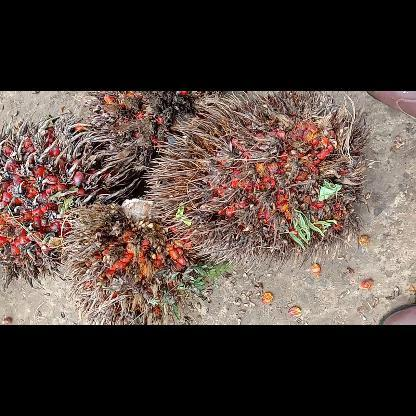Terlalu masak: (140, 91, 374, 275), (0, 109, 121, 288), (60, 192, 216, 324)
